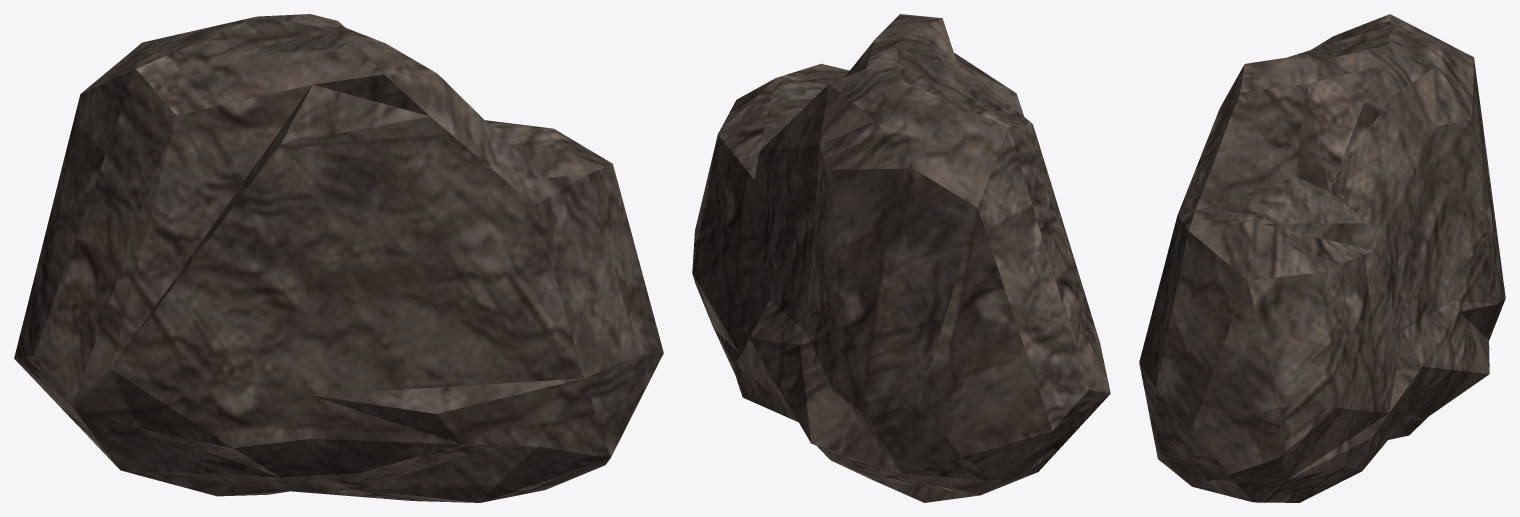
The model's file is LampLight_Rock_5.FBX.
The picture shows the model from 3 angles, left to right: view 1: azimuth 30°, elevation 25°; view 2: azimuth 150°, elevation 25°; view 3: azimuth 270°, elevation 25°; orthographic projection. The views are drawn at different scales.
Visible parts, largest first — view 1: Bg_Rock_009; view 2: Bg_Rock_009; view 3: Bg_Rock_009.
Part boxes in pixels (x1,y1,x2,y2): Bg_Rock_009: (14, 14, 663, 502); Bg_Rock_009: (692, 14, 1110, 502); Bg_Rock_009: (1139, 14, 1505, 502).
Size of the model in its own units: 167 by 143 by 123.
